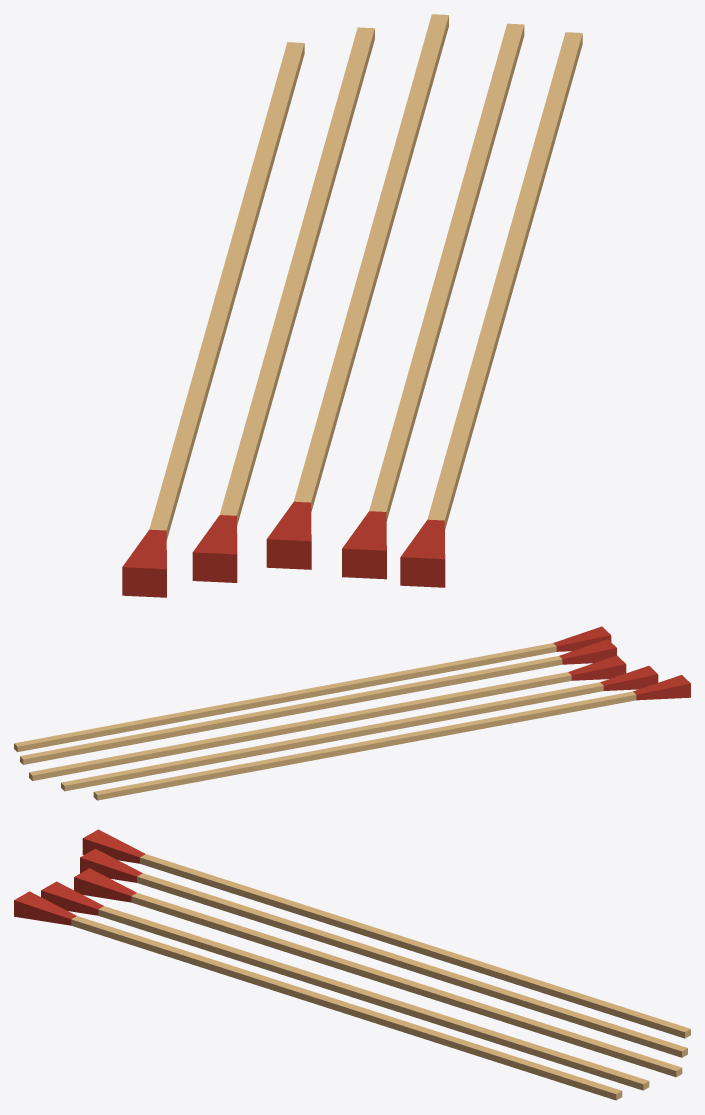
Rendered from headless_arrows.glb.
The picture shows the model from 3 angles, top to bottom: view 1: azimuth 30°, elevation 25°; view 2: azimuth 150°, elevation 25°; view 3: azimuth 270°, elevation 25°; orthographic projection. The views are drawn at different scales.
Visible parts, largest first — view 1: headless_arrows; view 2: headless_arrows; view 3: headless_arrows.
Part boxes in pixels (x1,y1,x2,y2): headless_arrows: [122, 14, 582, 597]; headless_arrows: [14, 626, 690, 800]; headless_arrows: [14, 829, 690, 1100].
Bounding box in the file's own units: 0.397 × 0.0119 × 0.4425.
